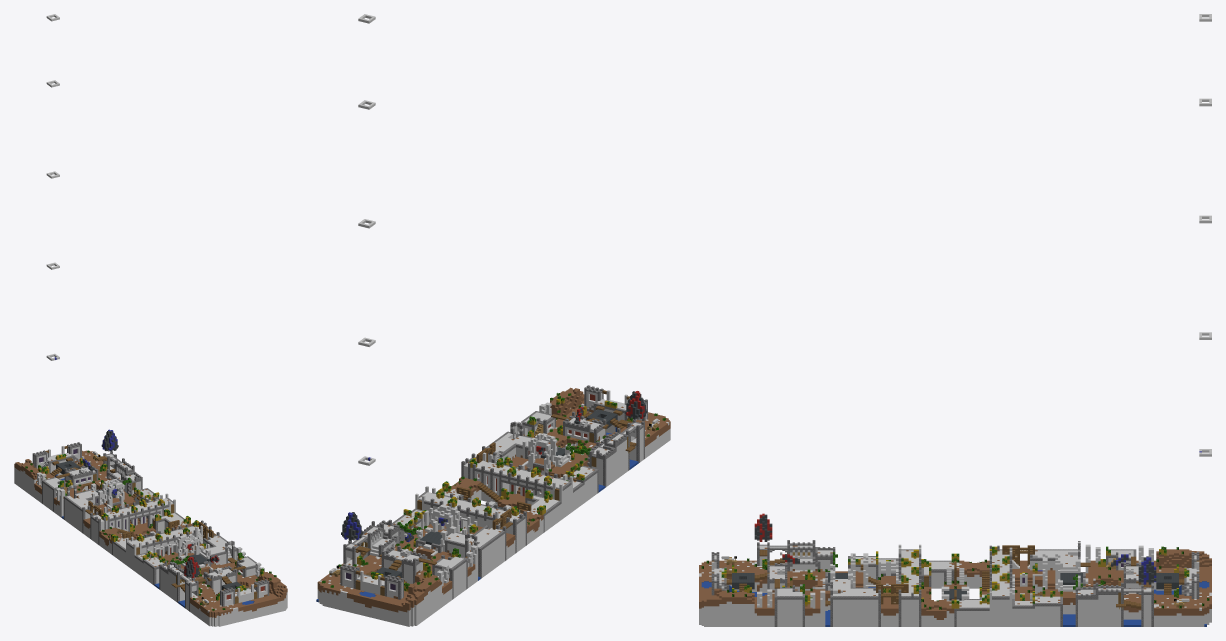
File: minecraft.obj
3 renders of one model, left to right at view 1: azimuth 30°, elevation 25°; view 2: azimuth 150°, elevation 25°; view 3: azimuth 270°, elevation 25°, orthographic. The views are drawn at different scales.
Bounding box in the file's own units: 49 × 256 × 203.
